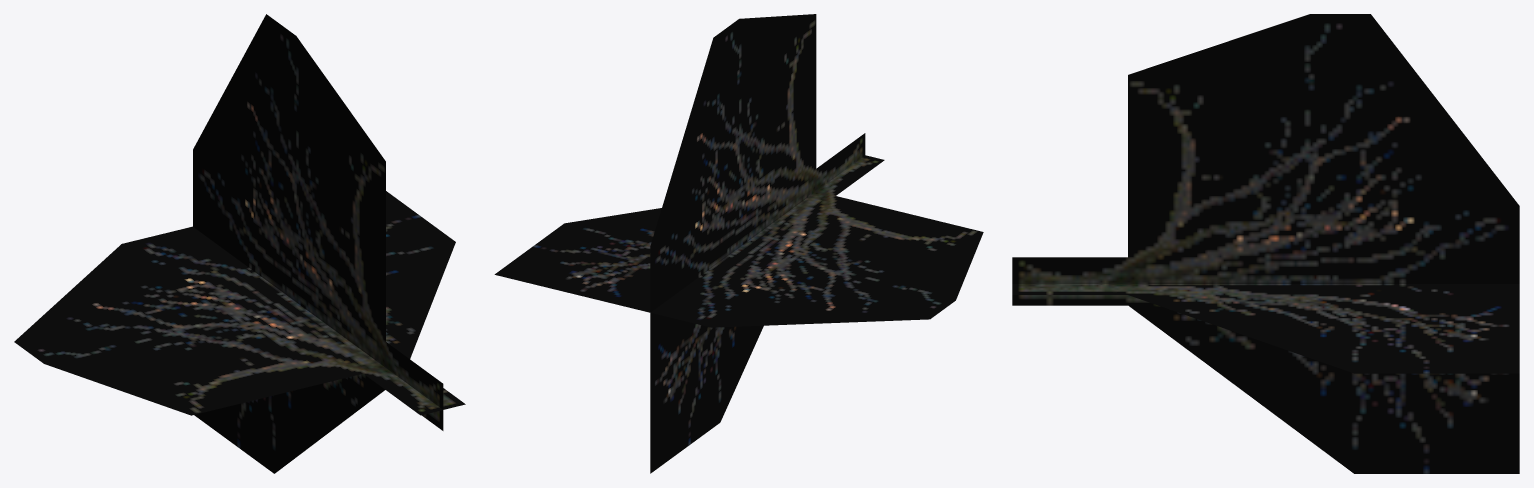
File: DeadTree.fbx
The picture shows the model from 3 angles, left to right: view 1: azimuth 30°, elevation 25°; view 2: azimuth 150°, elevation 25°; view 3: azimuth 270°, elevation 25°; orthographic projection. The views are drawn at different scales.
Parts seen in each view (by area): view 1: DeadTree; view 2: DeadTree; view 3: DeadTree.
Part boxes in pixels (x1=…): DeadTree: x1=14, y1=14, x2=465, y2=473; DeadTree: x1=494, y1=14, x2=983, y2=473; DeadTree: x1=1012, y1=14, x2=1519, y2=473.
Size of the model in its own units: 547 by 547 by 547.
